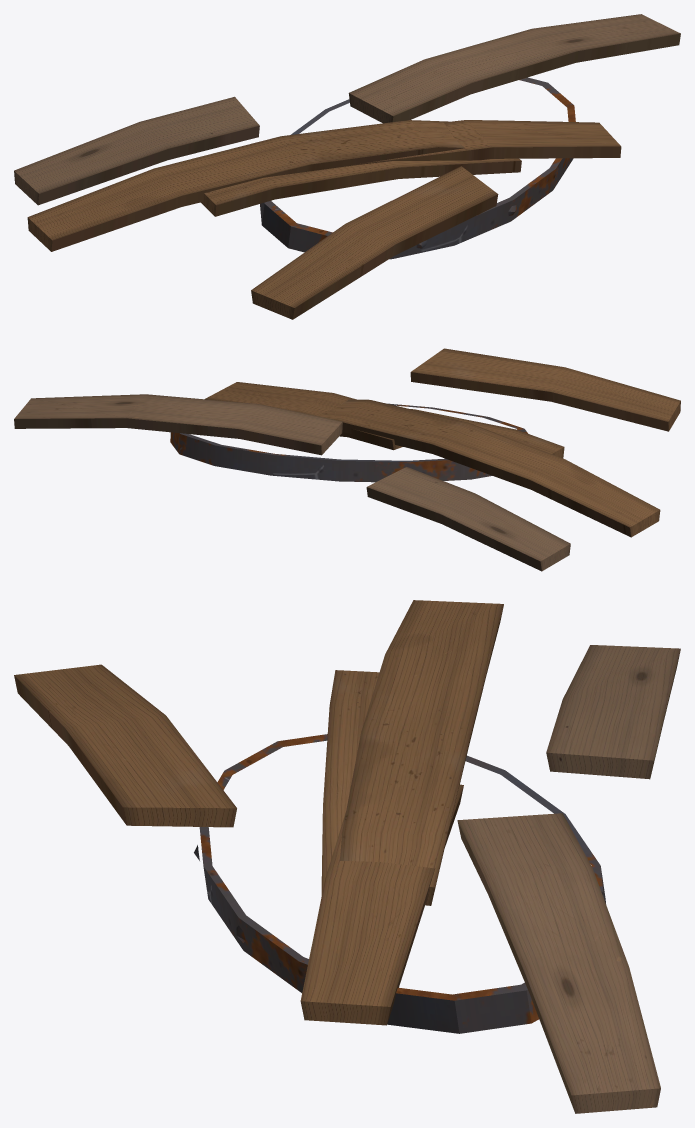
The model's file is Broken_Barrel_Debris.glb.
3 views of the same model, one above another, from view 1: azimuth 30°, elevation 25°; view 2: azimuth 150°, elevation 25°; view 3: azimuth 270°, elevation 25° (orthographic). The views are drawn at different scales.
Parts seen in each view (by area): view 1: Broken_Barrel_Debris; view 2: Broken_Barrel_Debris; view 3: Broken_Barrel_Debris.
Boxes of the visible parts, x1,y1,x2,y2 form: Broken_Barrel_Debris: (14,14,680,319); Broken_Barrel_Debris: (14,348,680,571); Broken_Barrel_Debris: (14,600,680,1113).
Size of the model in its own units: 1.4 by 0.1373 by 0.7921.
2 materials, 2 textured.
